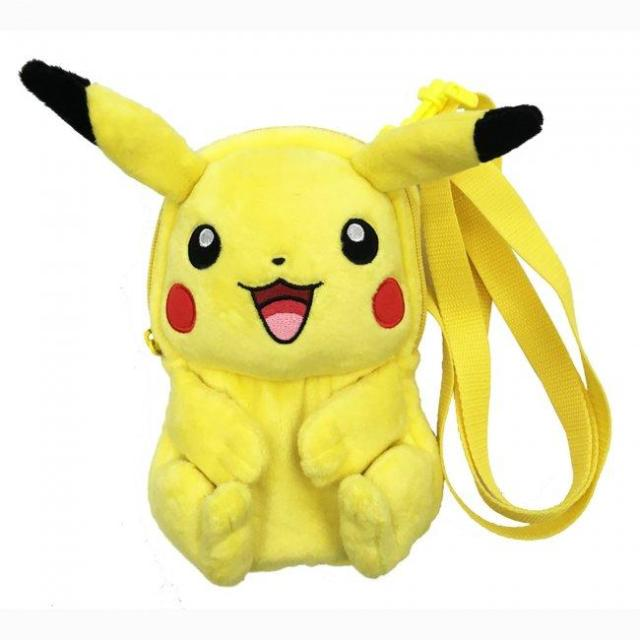pikachu: (19, 55, 542, 586)
